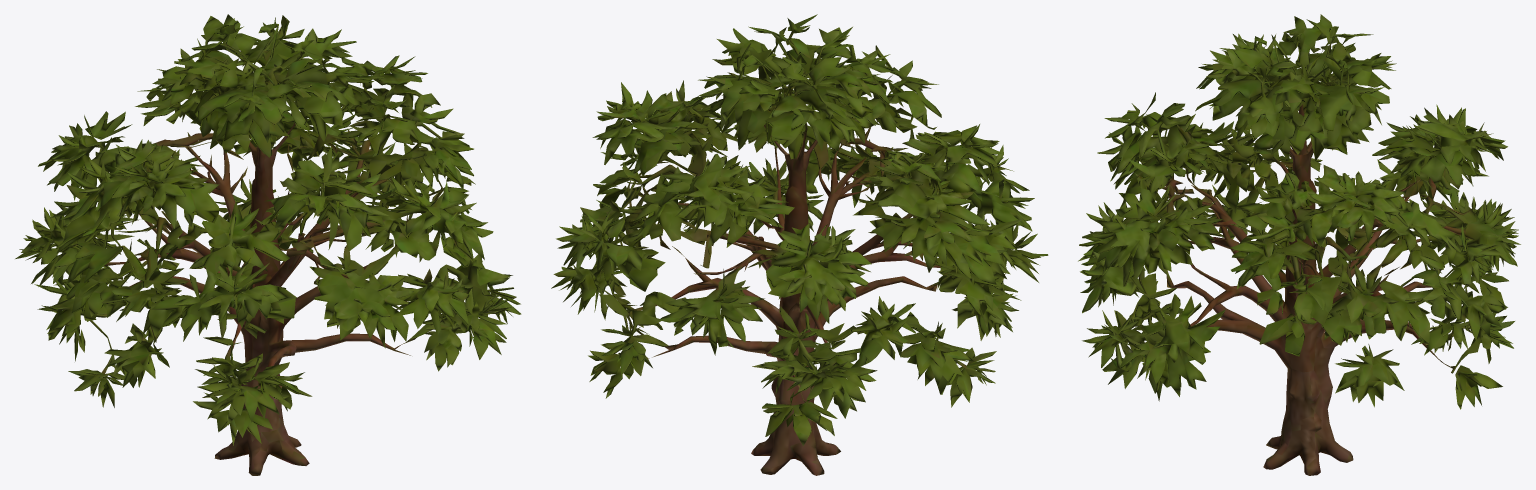
File: tree_oak_hd-DunzMY9O.glb
The picture shows the model from 3 angles, left to right: view 1: azimuth 30°, elevation 25°; view 2: azimuth 150°, elevation 25°; view 3: azimuth 270°, elevation 25°; orthographic projection.
Visible parts, largest first — view 1: tripo_node_b844dcce-d829-4adb-8bb4-a8165d987923; view 2: tripo_node_b844dcce-d829-4adb-8bb4-a8165d987923; view 3: tripo_node_b844dcce-d829-4adb-8bb4-a8165d987923.
Part boxes in pixels (x1,y1,x2,y2): tripo_node_b844dcce-d829-4adb-8bb4-a8165d987923: (15,14,521,475); tripo_node_b844dcce-d829-4adb-8bb4-a8165d987923: (551,14,1048,475); tripo_node_b844dcce-d829-4adb-8bb4-a8165d987923: (1078,14,1520,475).
Bounding box in the file's own units: 0.934 × 0.9514 × 0.903.
Materials: 1 (1 with a texture image).
